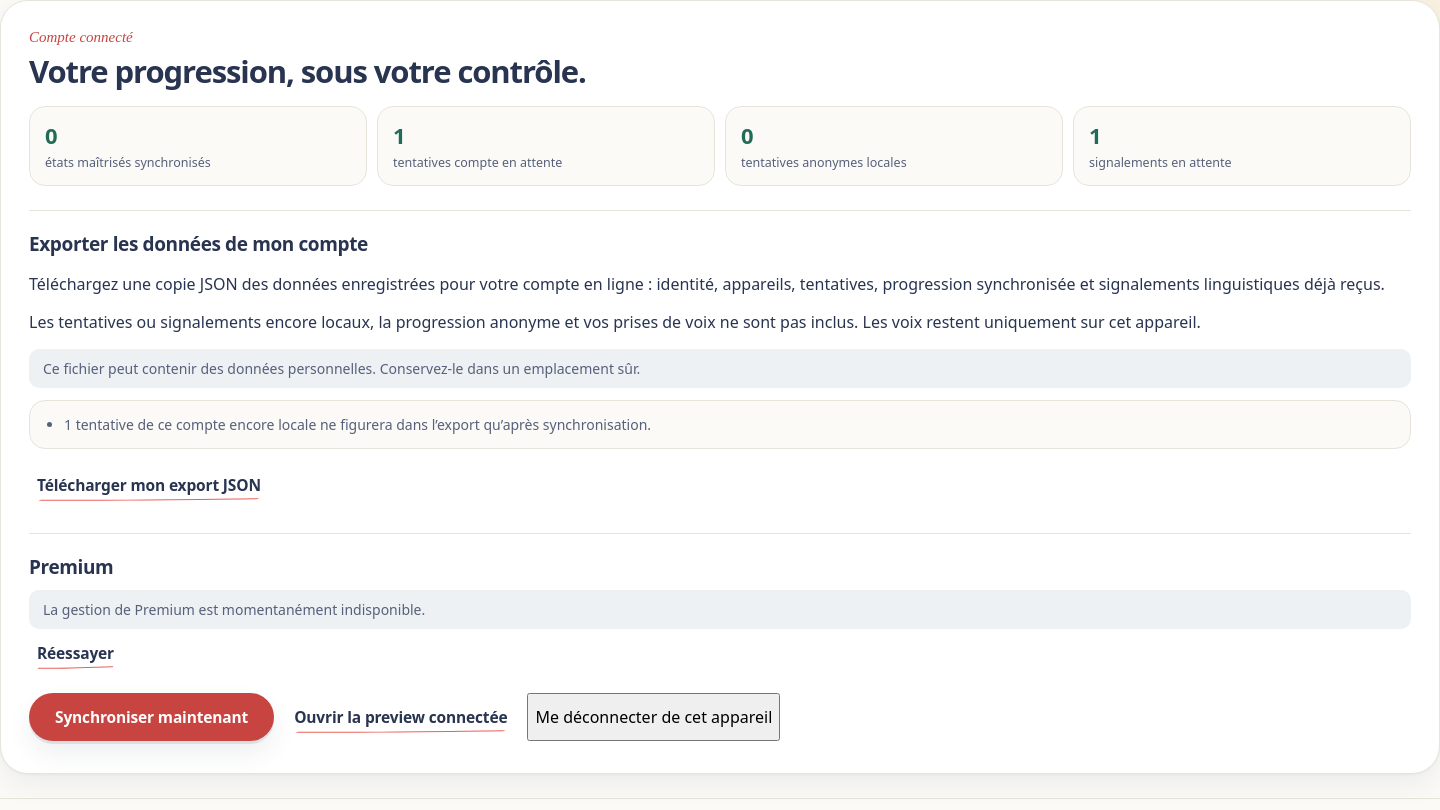
parcours compte web › nomme explicitement la suppression locale avant déconnexion
expect the button "Télécharger mon export JSON" is enabled: met, box x1=29 y1=461 x2=269 y2=509
Click the button "Me déconnecter de cet appareil": {"x": 654, "y": 717} x1=527 y1=693 x2=780 y2=741
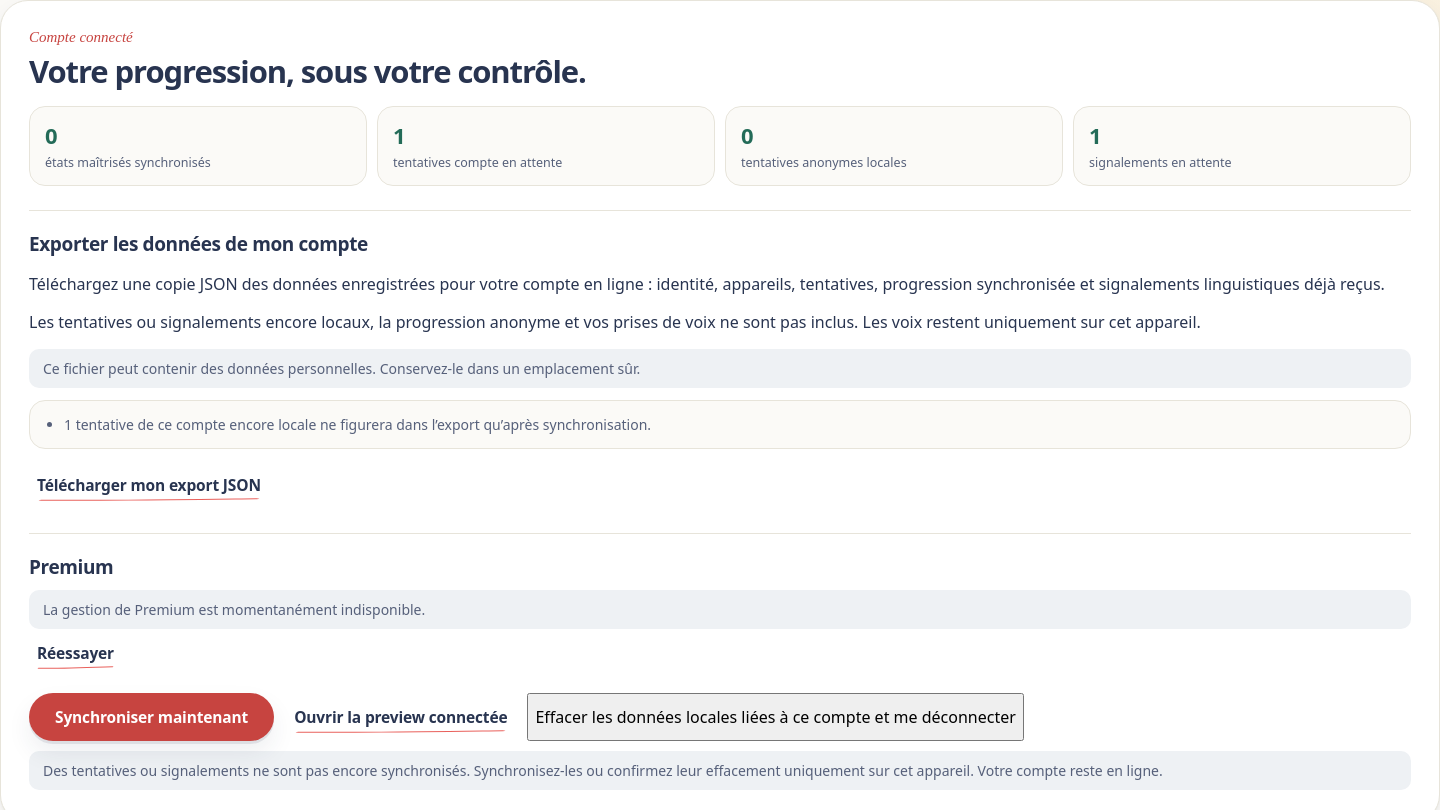
expect the text "effacement uniquement sur cet appareil" is shown: met, box x1=43 y1=761 x2=1163 y2=780
expect the text "Votre compte reste en ligne" is shown: met, box x1=43 y1=761 x2=1163 y2=780
expect the text "signalements" is shown: met, box x1=43 y1=761 x2=1163 y2=780
